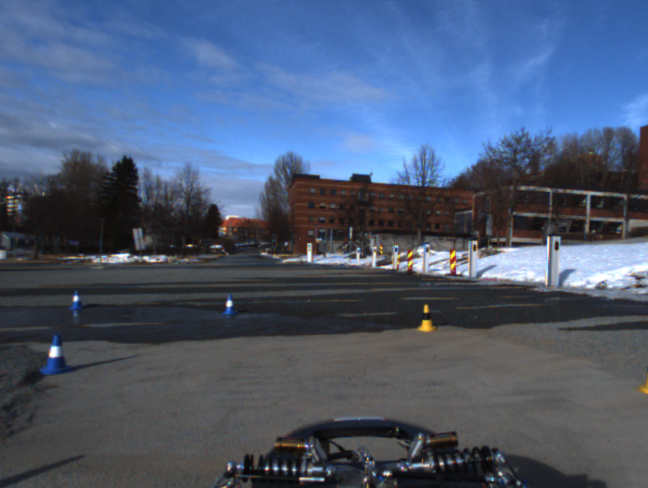cone-small-blue: (38, 333, 72, 373), (67, 290, 84, 310), (222, 293, 237, 315)
cone-small-yellow: (417, 304, 436, 331)
